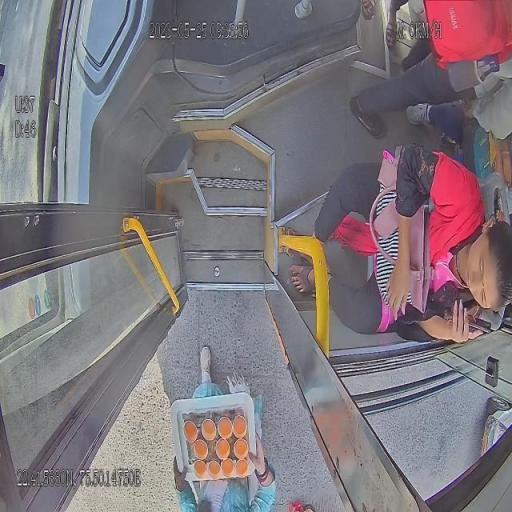persona: (282, 142, 512, 345), (349, 1, 512, 144), (172, 346, 277, 511)
